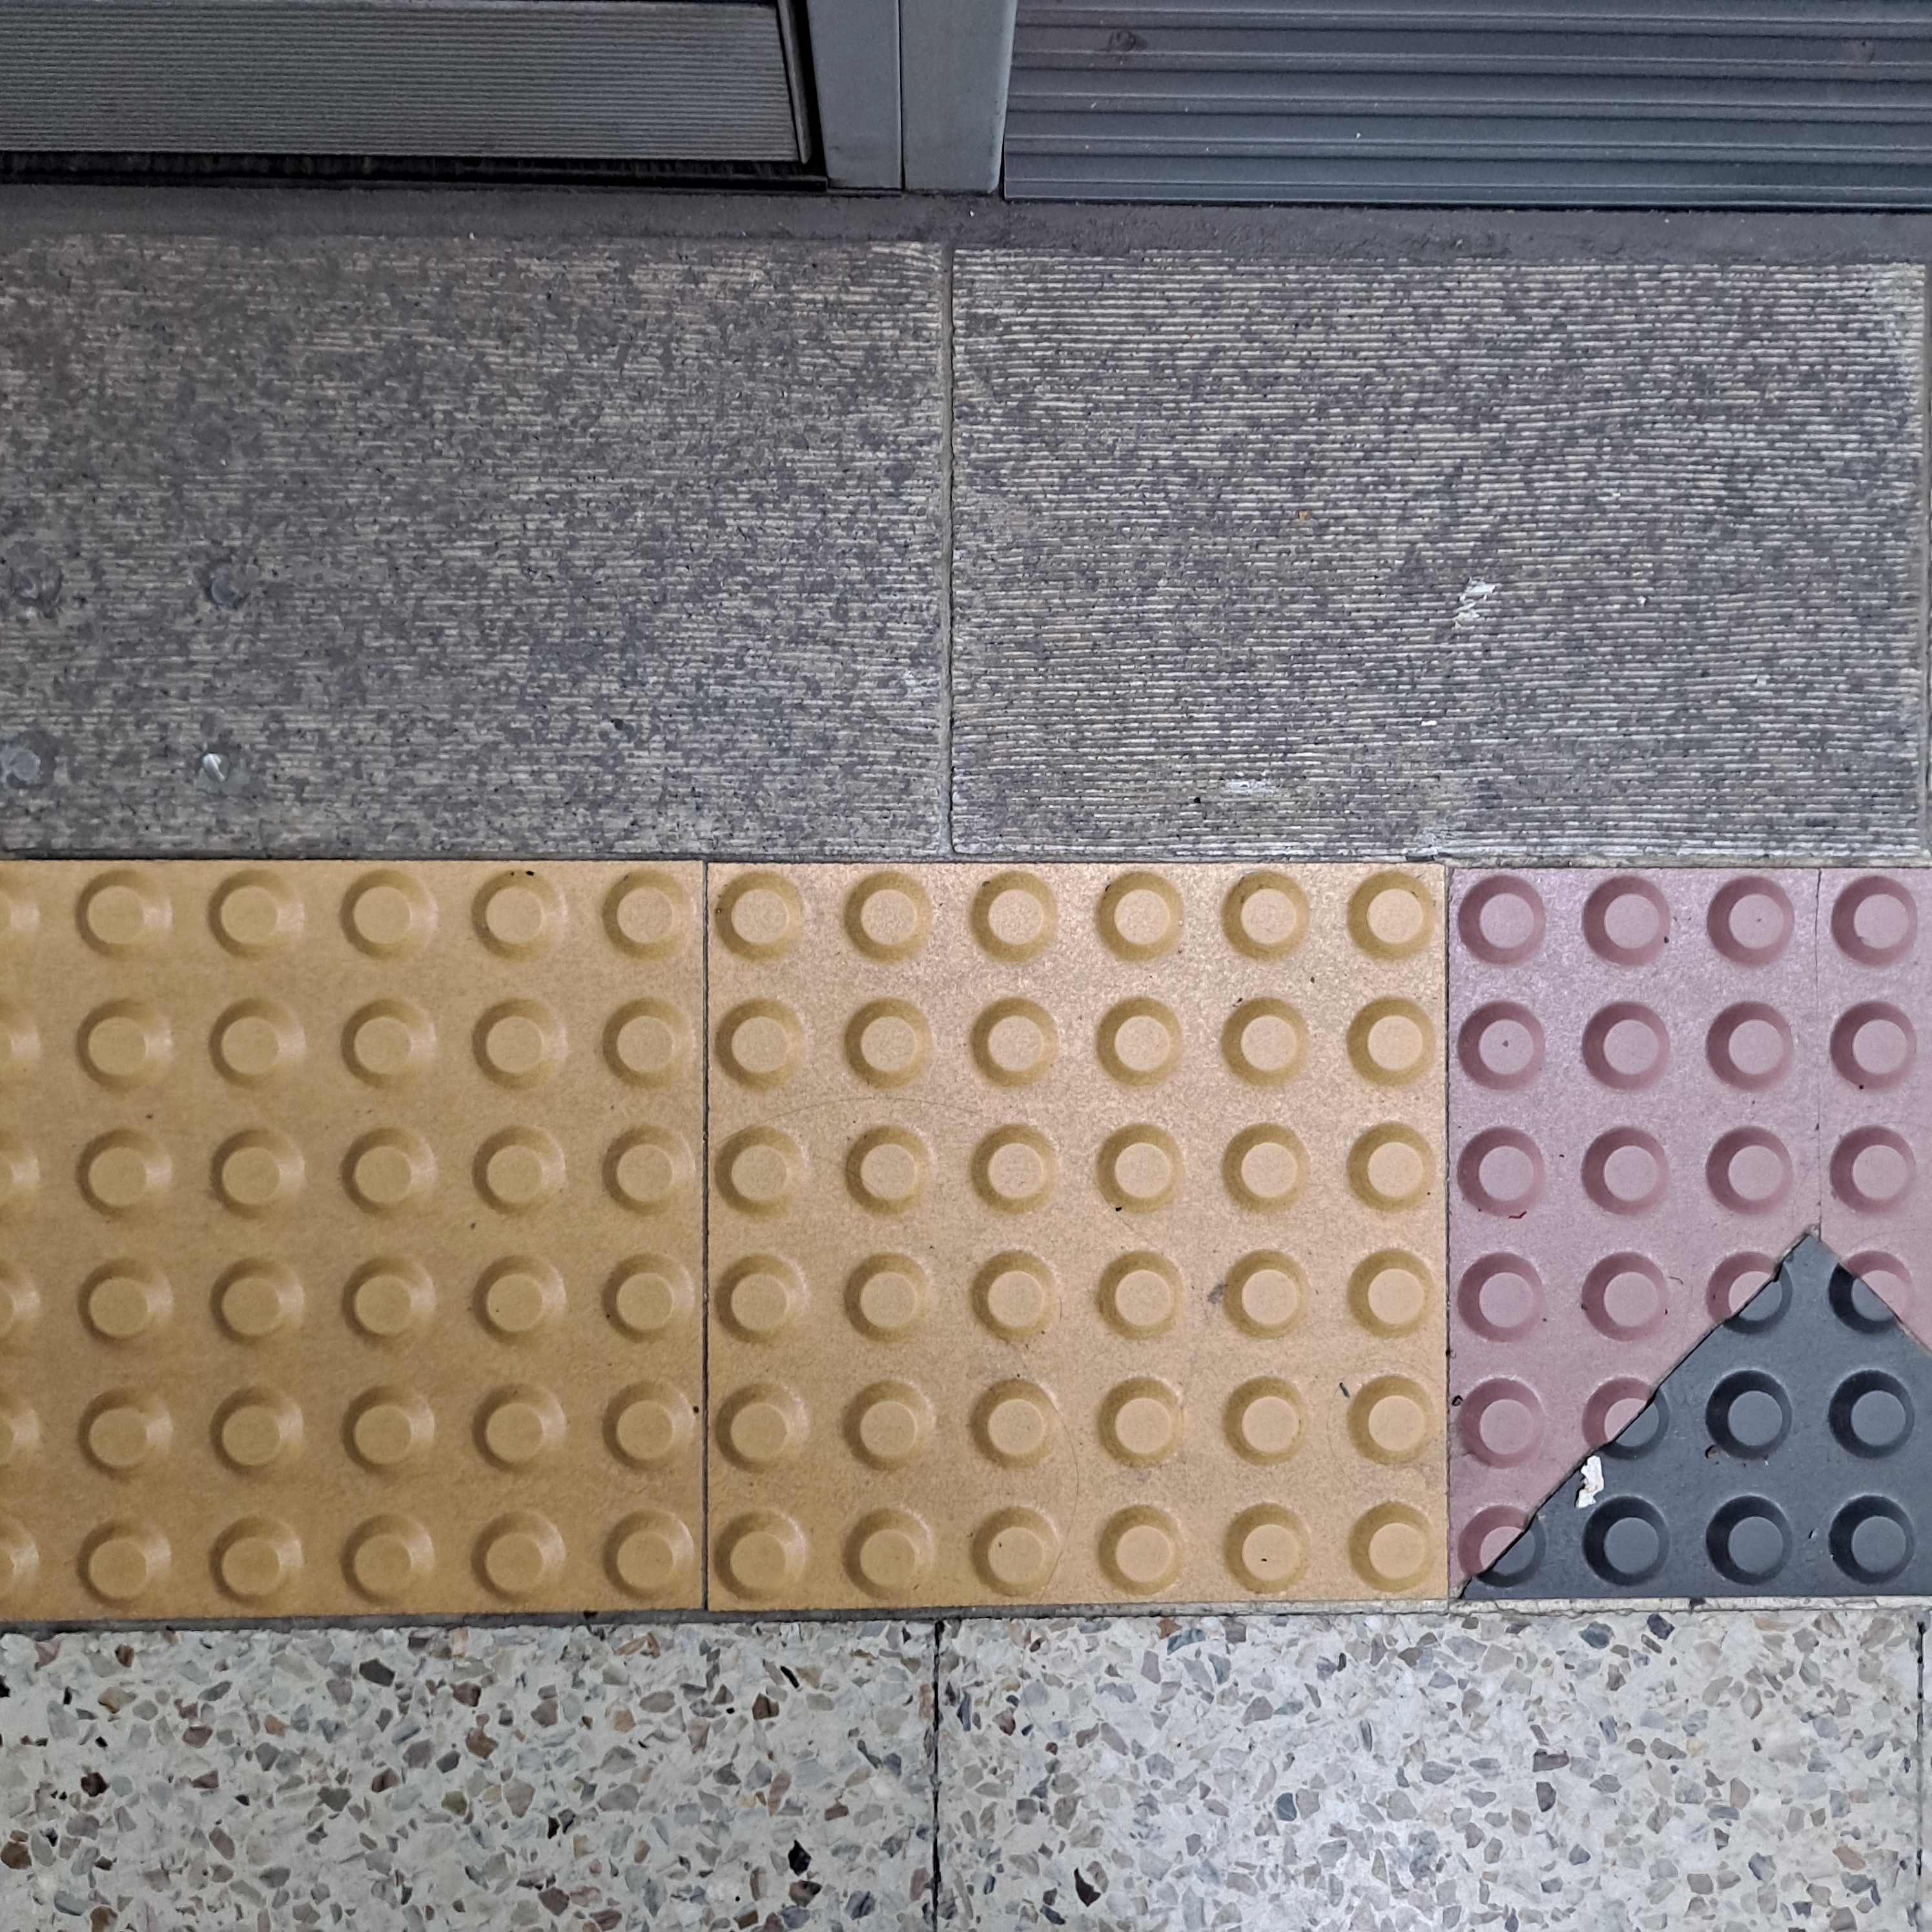warningBlock: (711, 853, 1447, 1637), (2, 851, 708, 1628), (1488, 844, 1932, 1585)
